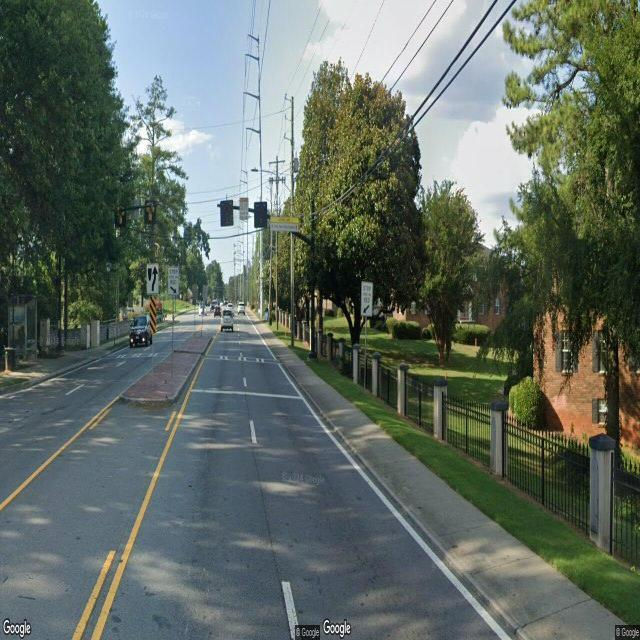seating: (27, 346, 32, 360)
shelter: (6, 292, 40, 364)
trash_can: (4, 347, 16, 370)
